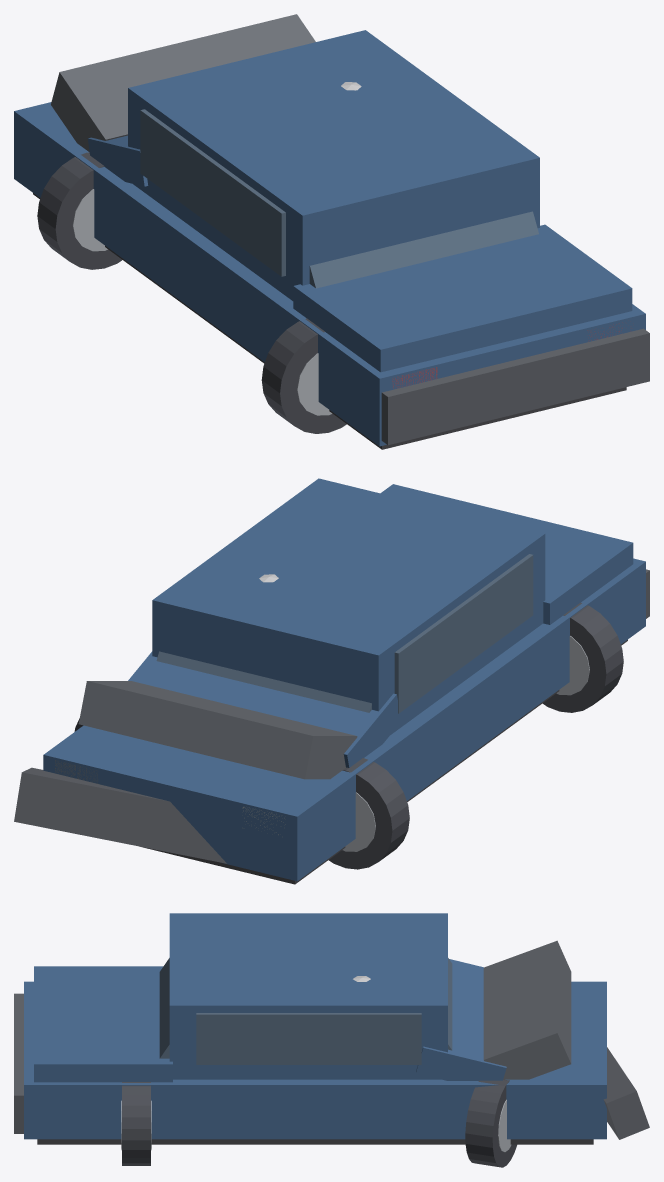
Rendered from vehicle_sedan_damaged.glb.
The picture shows the model from 3 angles, top to bottom: view 1: azimuth 30°, elevation 25°; view 2: azimuth 150°, elevation 25°; view 3: azimuth 270°, elevation 25°; orthographic projection. The views are drawn at different scales.
Parts seen in each view (by area): view 1: world; view 2: world; view 3: world.
Boxes of the visible parts, x1,y1,x2,y2 form: world: (14, 14, 649, 449); world: (14, 478, 649, 884); world: (14, 913, 649, 1167).
Bounding box in the file's own units: 2.4 × 1.3 × 4.8.
